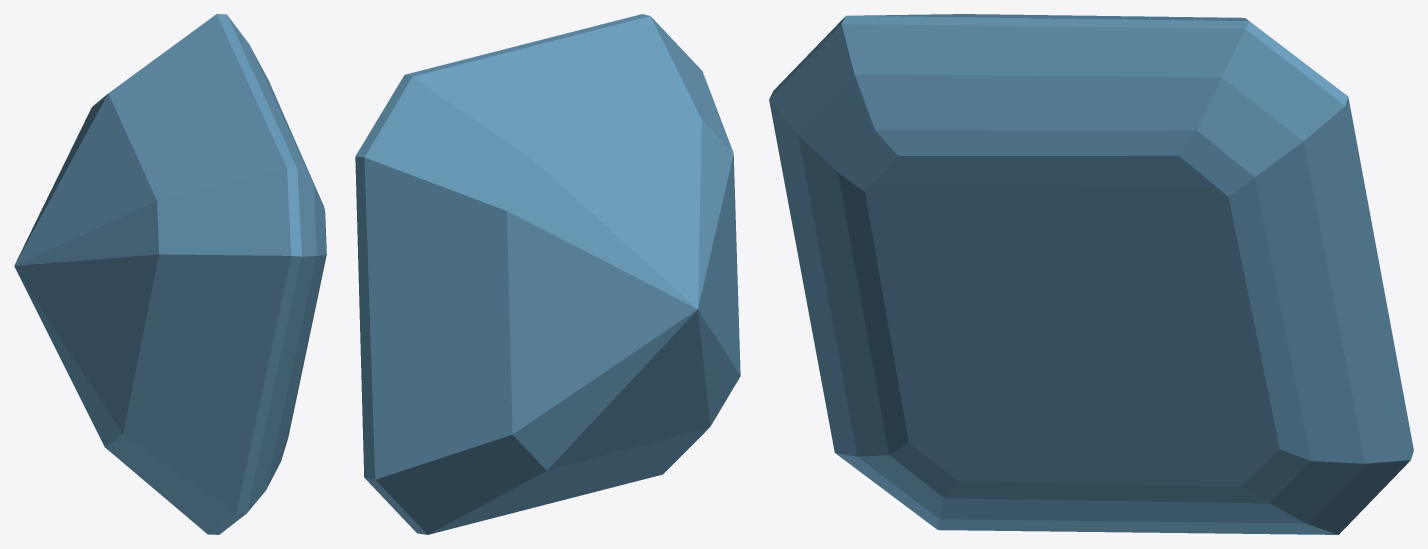
The model's file is TR5_8shapes_Square_Classic_Stone.001 2.glb.
The picture shows the model from 3 angles, left to right: view 1: azimuth 30°, elevation 25°; view 2: azimuth 150°, elevation 25°; view 3: azimuth 270°, elevation 25°; orthographic projection. The views are drawn at different scales.
Parts seen in each view (by area): view 1: TR5_8shapes_Square_Classic_Stone.001; view 2: TR5_8shapes_Square_Classic_Stone.001; view 3: TR5_8shapes_Square_Classic_Stone.001.
Part boxes in pixels (left/top/right/bottom): TR5_8shapes_Square_Classic_Stone.001: left=14, top=14, right=326, bottom=534; TR5_8shapes_Square_Classic_Stone.001: left=355, top=14, right=740, bottom=534; TR5_8shapes_Square_Classic_Stone.001: left=769, top=14, right=1413, bottom=534.
Bounding box in the file's own units: 0.3245 × 0.4755 × 0.4765.
